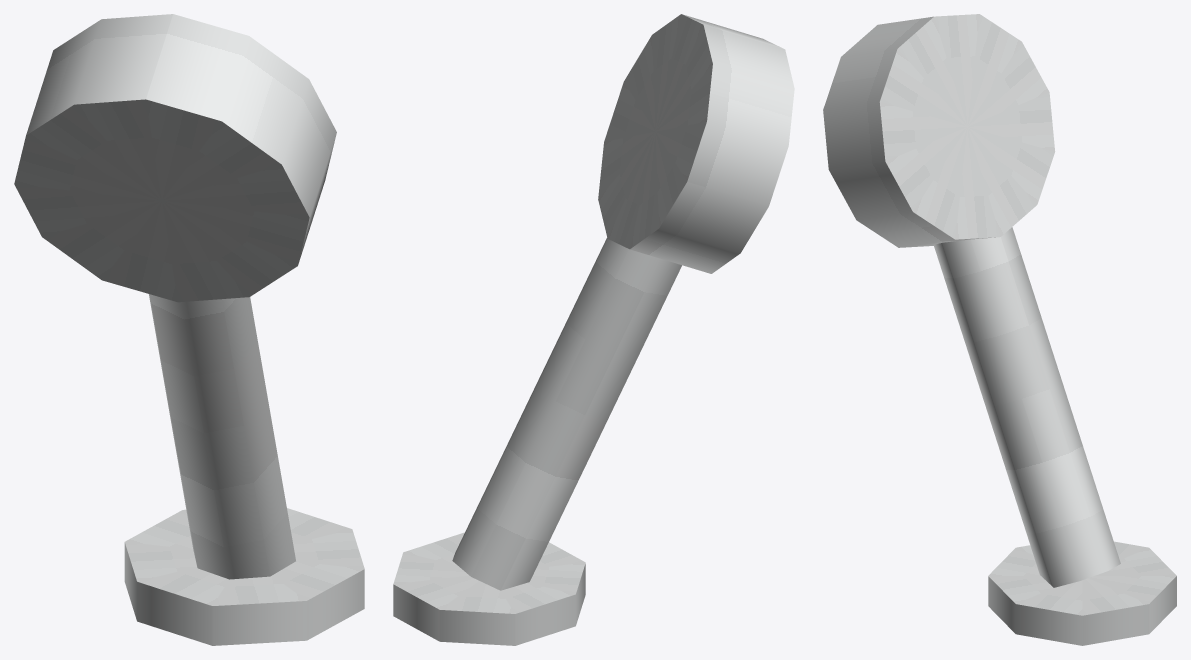
File: nycsignalarm_stub_182.obj
3 renders of one model, left to right at view 1: azimuth 30°, elevation 25°; view 2: azimuth 150°, elevation 25°; view 3: azimuth 270°, elevation 25°, orthographic. The views are drawn at different scales.
Visible parts, largest first — view 1: nycsignalarm_stub_182; view 2: nycsignalarm_stub_182; view 3: nycsignalarm_stub_182.
Part boxes in pixels (x1,y1,x2,y2): nycsignalarm_stub_182: [14, 14, 364, 645]; nycsignalarm_stub_182: [393, 14, 794, 645]; nycsignalarm_stub_182: [823, 14, 1176, 645].
Size of the model in its own units: 0.6562 by 1.08 by 0.6562.
